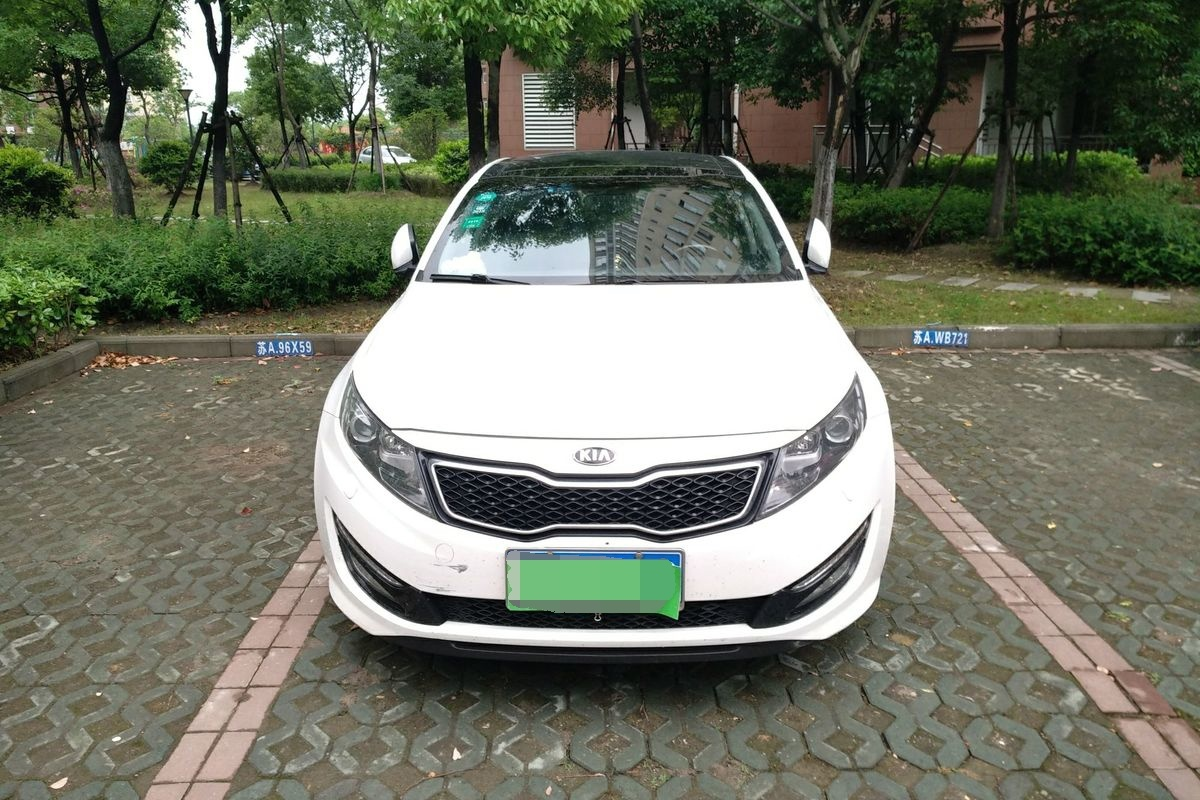family sedan: (288, 142, 922, 645)
